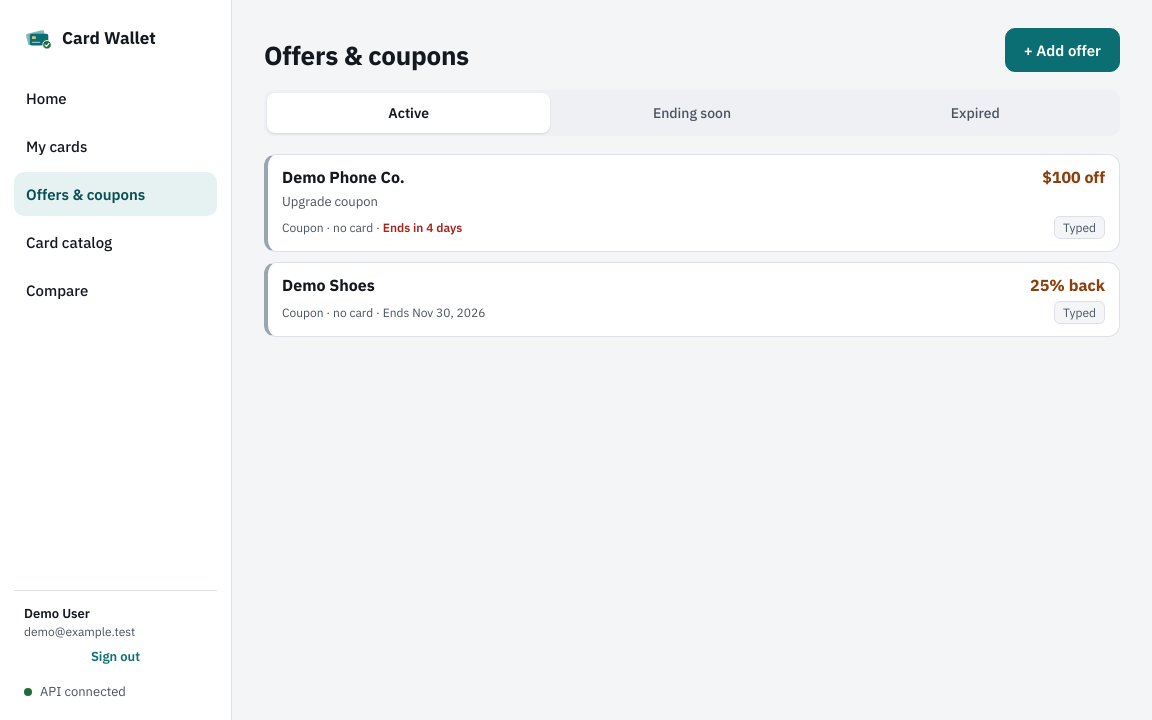
it: offers › lists offers by tab, with the design's wording
The width and height of the screenshot is (1152, 720).
Expected: the text "$100 off" is shown, left=1042, top=167, right=1105, bottom=187
Expected: the text "Coupon · no card · Ends in 4 days" is shown, left=282, top=220, right=462, bottom=235
Click the tab "Expired": (975, 113) left=834, top=93, right=1117, bottom=133
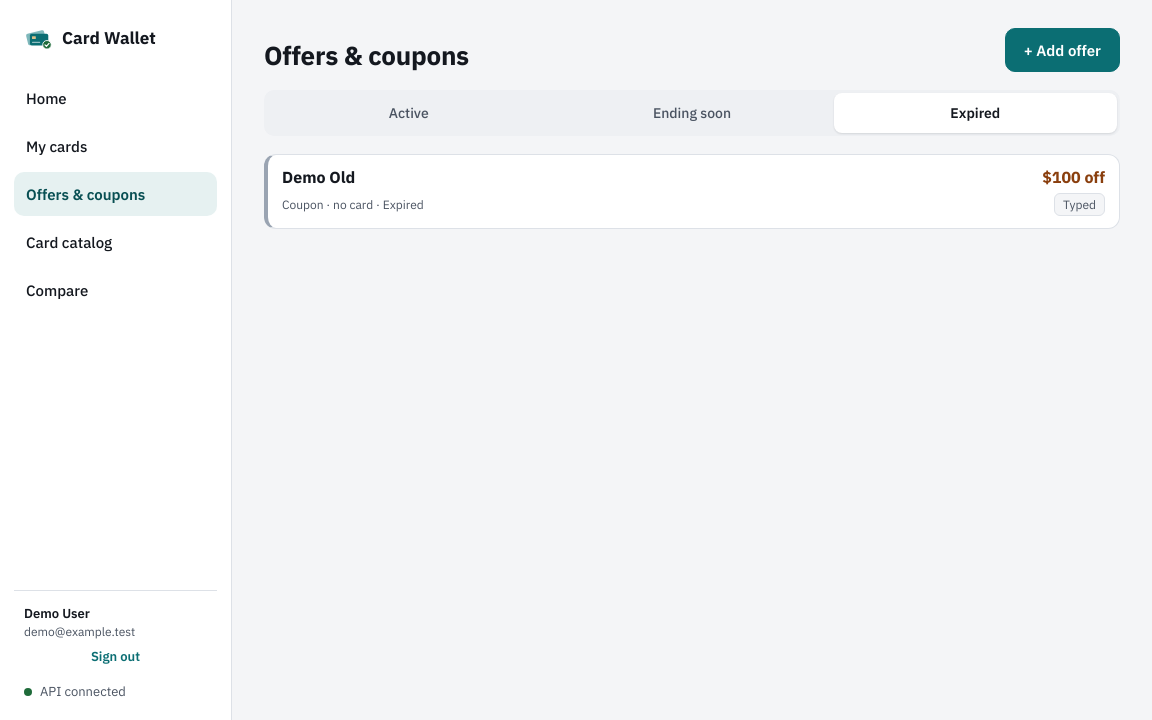
Expected: the text "Demo Old" is shown, left=282, top=167, right=355, bottom=187
Expected: the link "Demo Shoes" is gone
